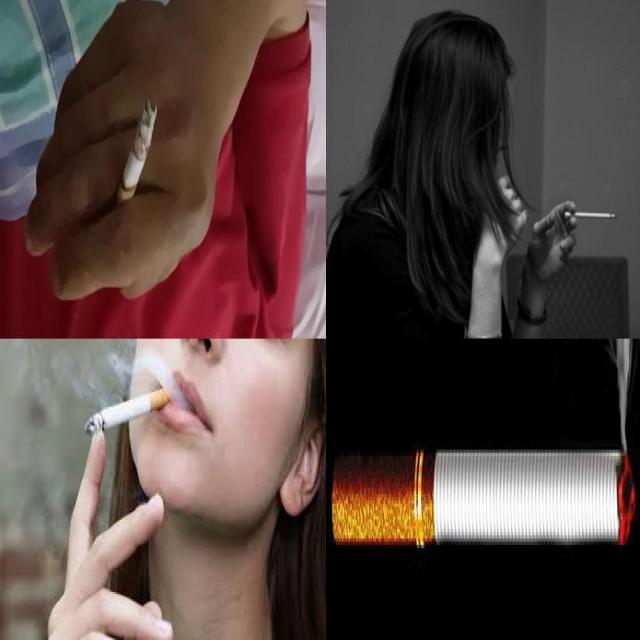smoking: (332, 446, 634, 542), (112, 103, 158, 221), (84, 384, 177, 436), (565, 210, 617, 220)
